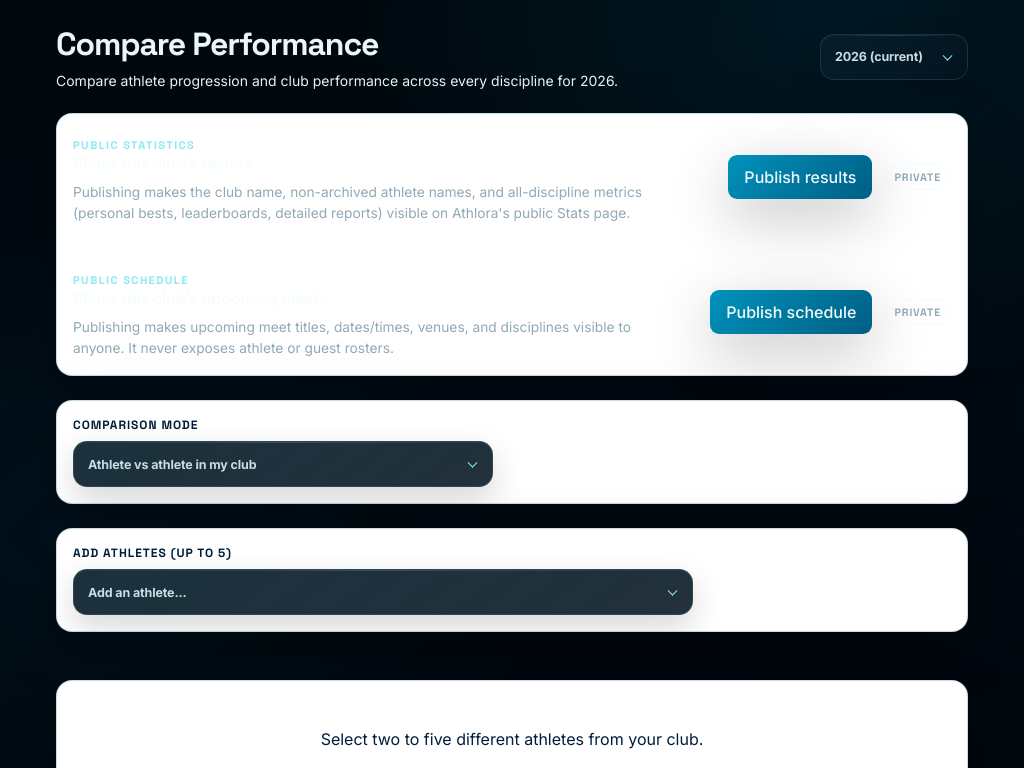
Test: ComparisonPage › preloads clubs and filters them in the comparison picker
Click the button with aria-label "Comparison mode". click: [172, 464]
box: [74, 442, 492, 486]
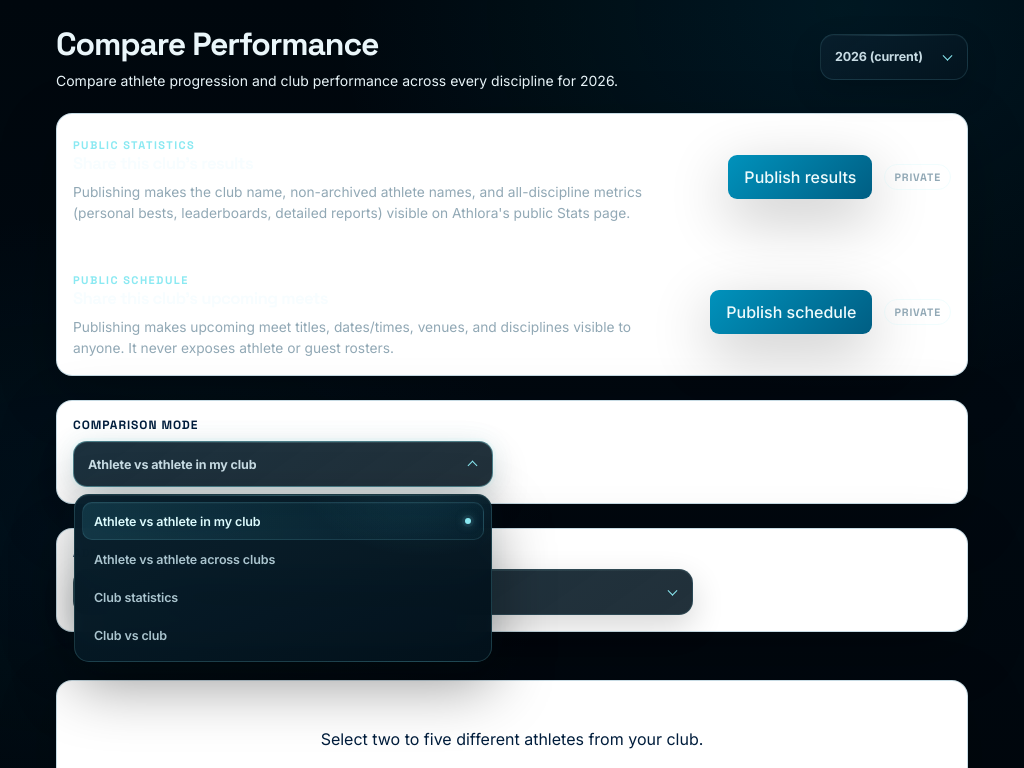
Click the option "Club vs club". click: [130, 635]
box: [82, 616, 484, 654]
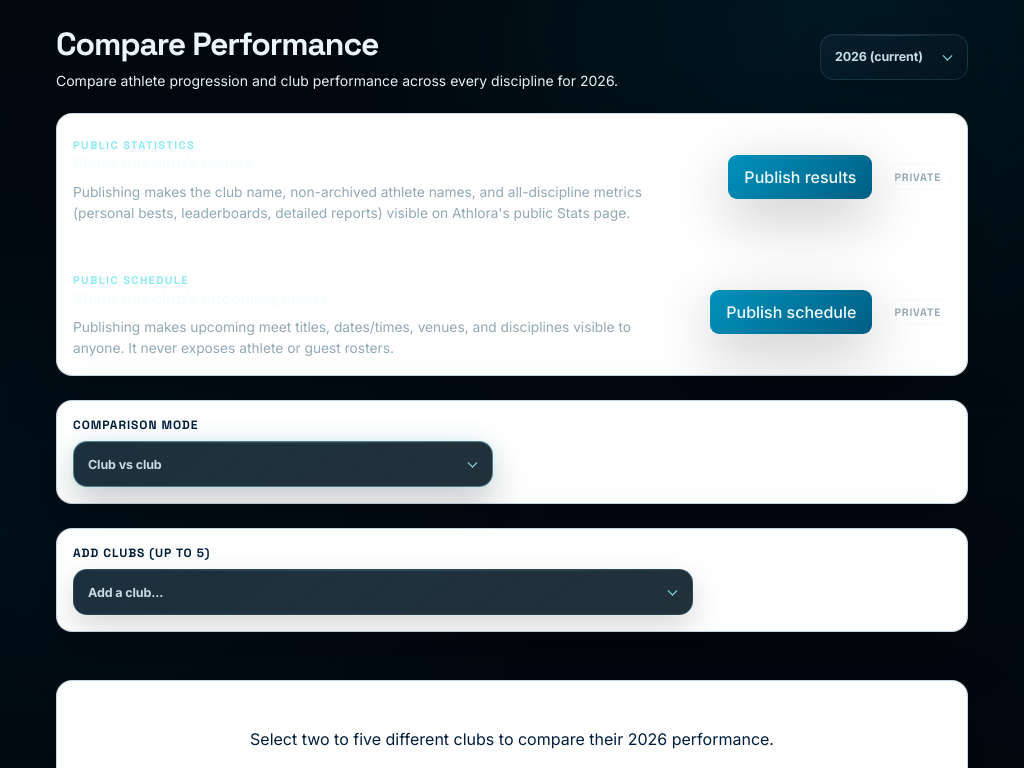
Click the button with aria-label "Add club to comparison". click: [126, 592]
box: [74, 570, 692, 614]
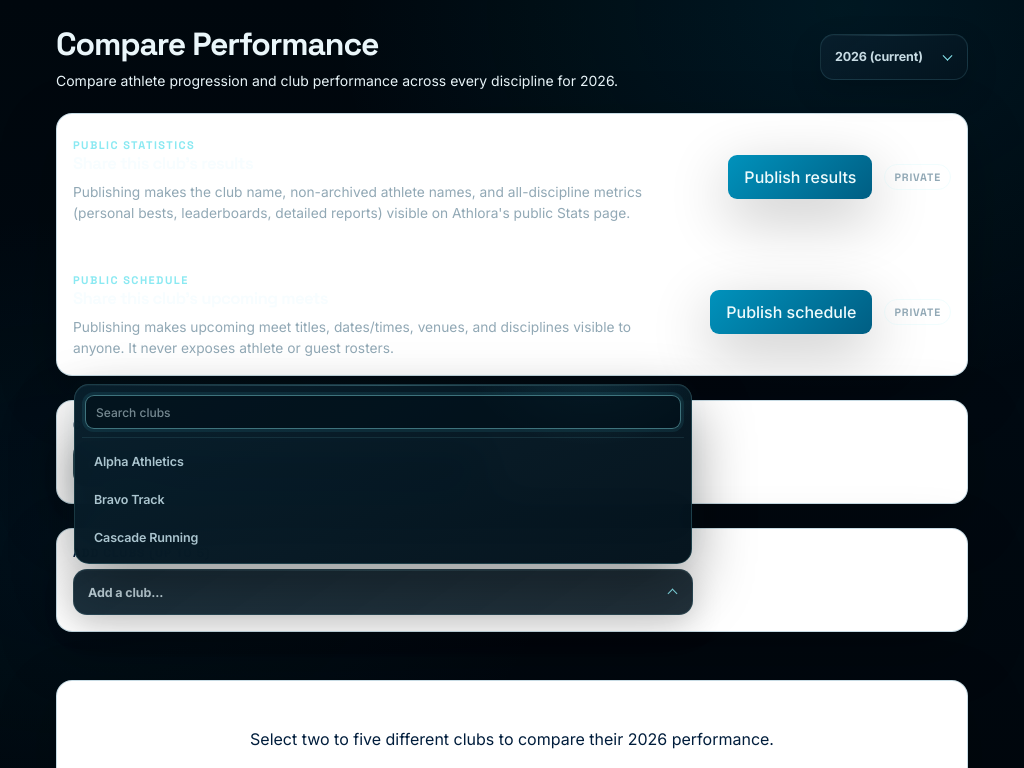
Type "Alpha" into the search field labelled "Search clubs". click: [383, 412]
box: [85, 395, 681, 429]
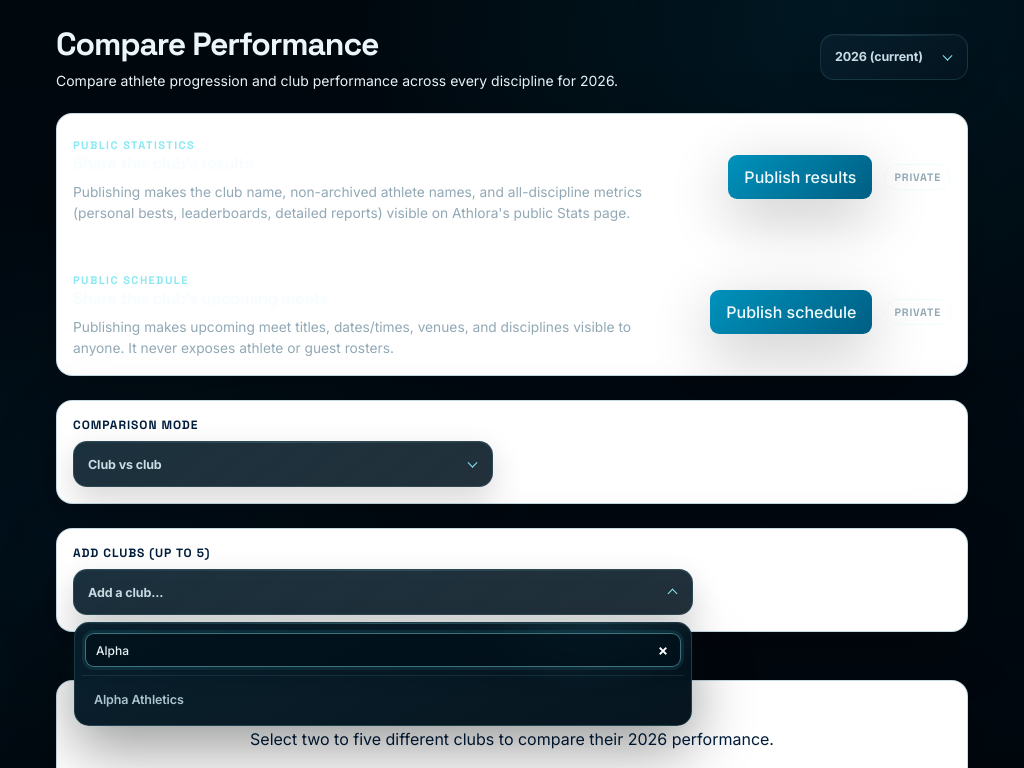
Click the option "Alpha Athletics". click: [139, 699]
box: [82, 680, 684, 718]
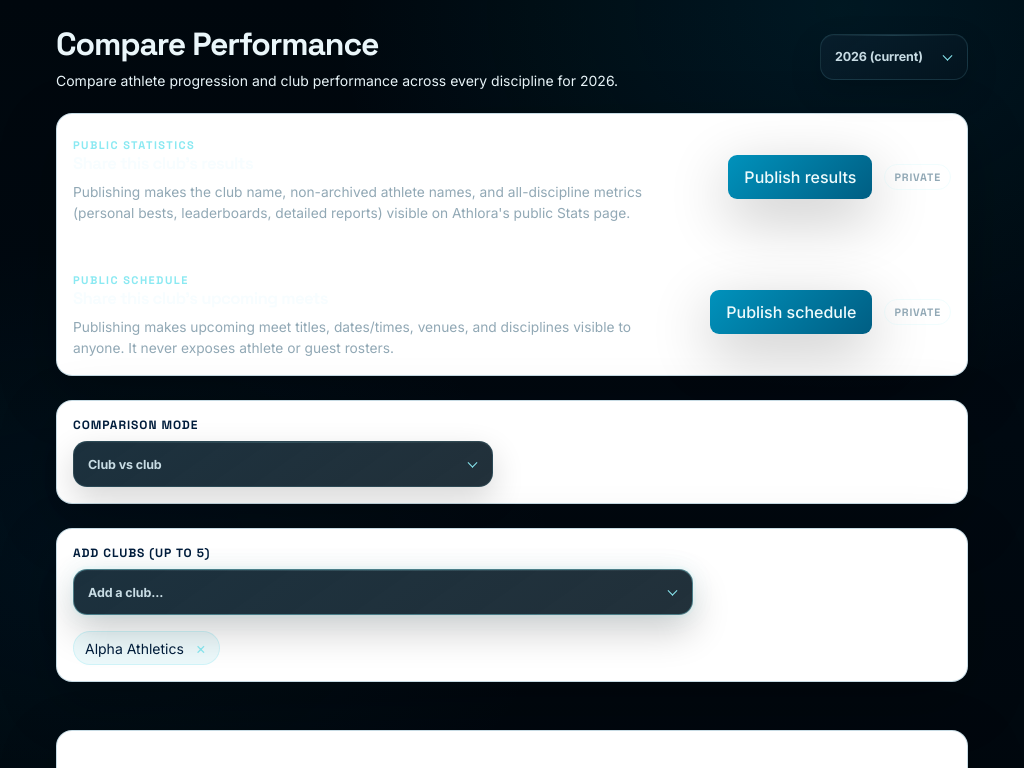
Result: the list named "Selected clubs" shows "Alpha Athletics" at [85, 640, 184, 657]
